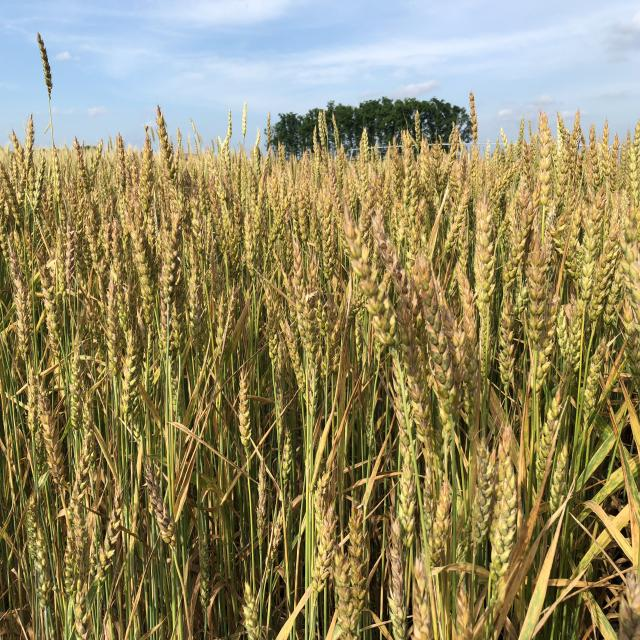Wheathead: (3, 117, 640, 621)
